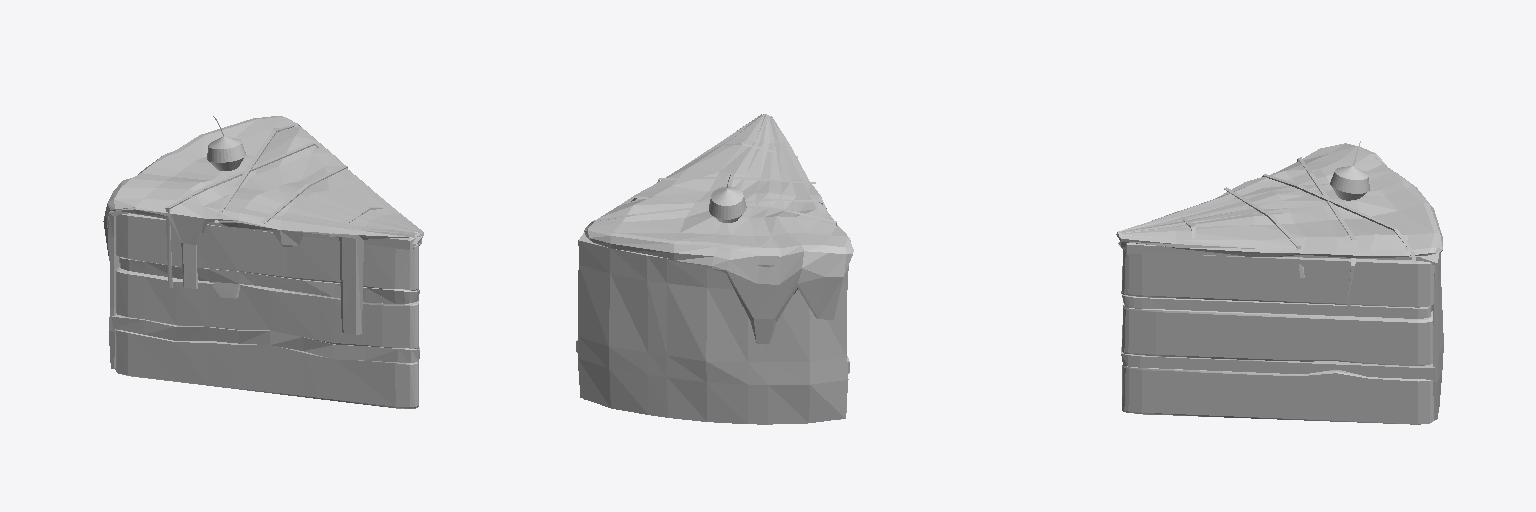
File: Pastel_Rebanada4.obj
3 renders of one model, left to right at view 1: azimuth 30°, elevation 25°; view 2: azimuth 150°, elevation 25°; view 3: azimuth 270°, elevation 25°, orthographic.
Visible parts, largest first — view 1: polySurface69; view 2: polySurface69; view 3: polySurface69.
Boxes of the visible parts, <box> form: polySurface69: <box>103,116,423,408</box>; polySurface69: <box>576,114,853,424</box>; polySurface69: <box>1116,141,1443,424</box>.
Bounding box in the file's own units: 0.2006 × 0.1917 × 0.2474.